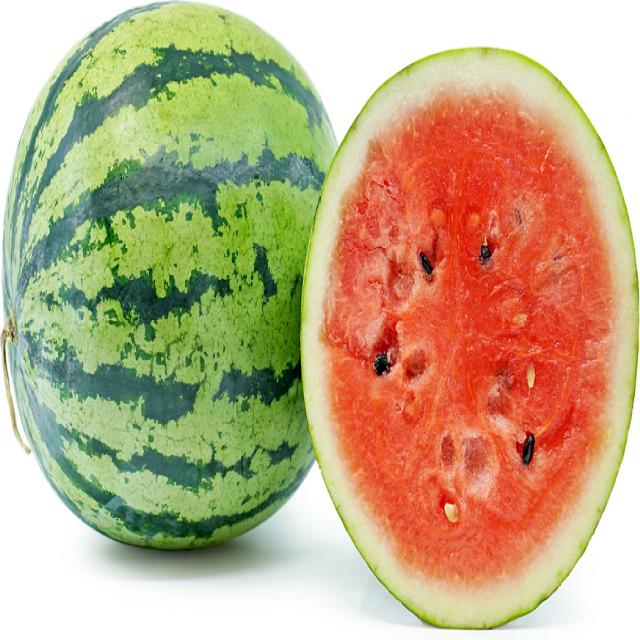watermelon: (300, 37, 640, 640), (12, 2, 350, 568)
